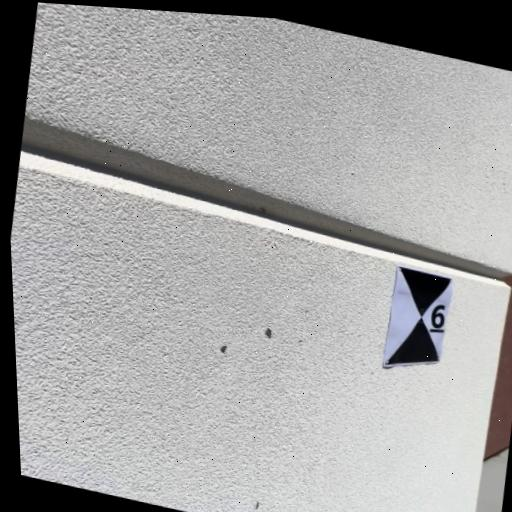target6: (384, 265, 451, 367)
